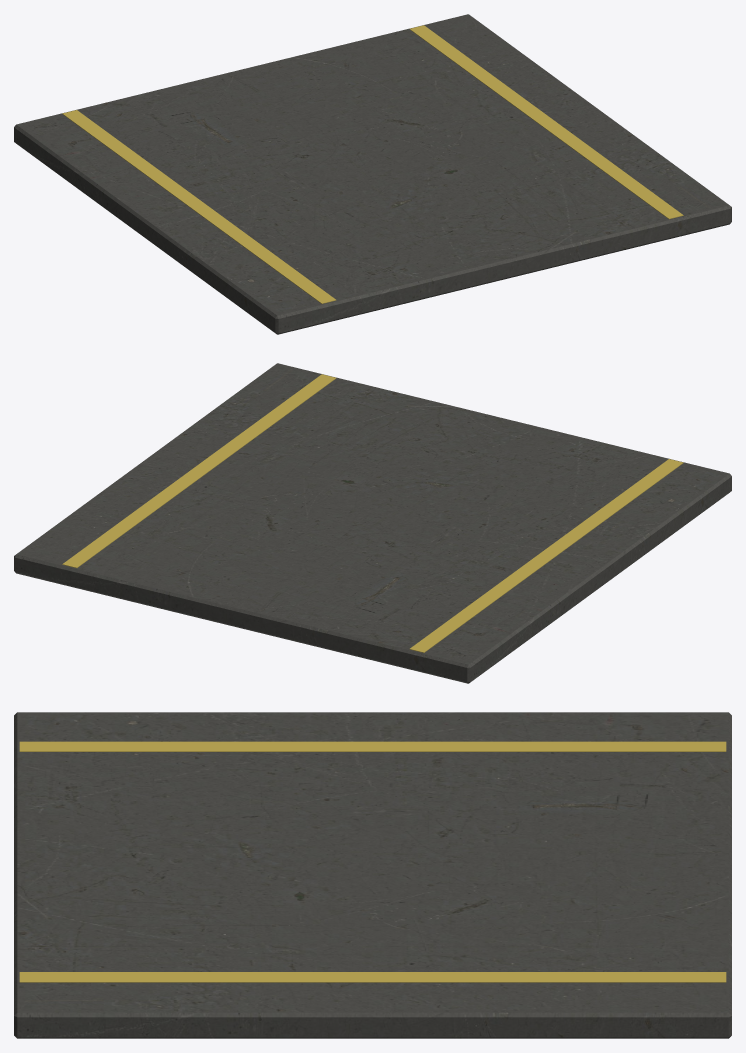
The model's file is floor_tile_marked.glb.
3 renders of one model, top to bottom at view 1: azimuth 30°, elevation 25°; view 2: azimuth 150°, elevation 25°; view 3: azimuth 270°, elevation 25°, orthographic. The views are drawn at different scales.
Visible parts, largest first — view 1: floor_tile_marked; view 2: floor_tile_marked; view 3: floor_tile_marked.
Boxes of the visible parts, bbox=[...] form: floor_tile_marked: bbox=[14, 14, 731, 334]; floor_tile_marked: bbox=[14, 363, 731, 683]; floor_tile_marked: bbox=[14, 712, 731, 1038].
Bounding box in the file's own units: 2.5 × 0.103 × 2.5.
Materials: 2 (1 with a texture image).
